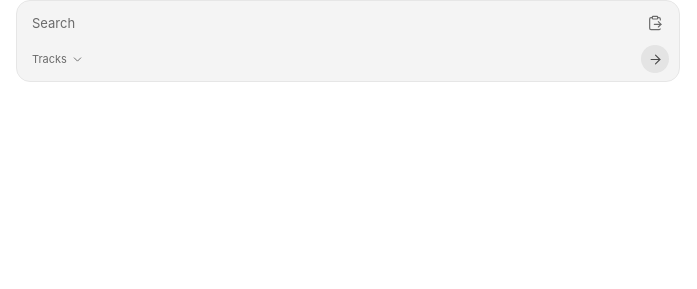
Test case: DeezerPage searching › drops responses from superseded searches
In the field named "Search query": coordinates (332, 23) [32,9,633,37], type "first"
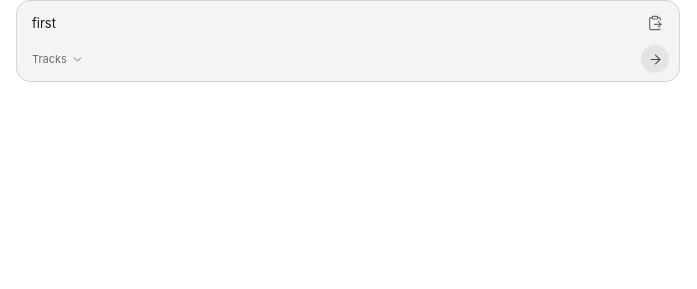
Click the button named "Search": coordinates (655, 59) [641,45,669,73]
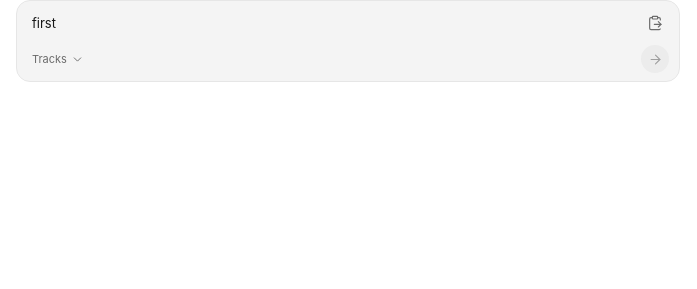
Replace the text in the field named "Search query" with "second": coordinates (332, 23) [32,9,633,37]
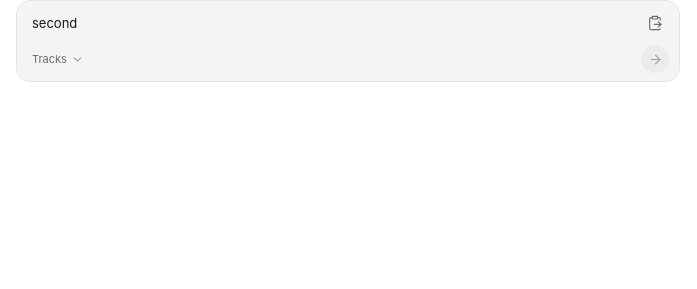
Submit the form, box [16,0,680,82]
Replace the text in the field named "Search query" with "third": coordinates (332, 23) [32,9,633,37]
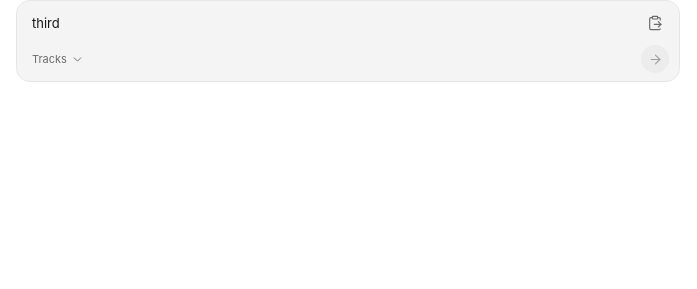
Submit the form, box [16,0,680,82]
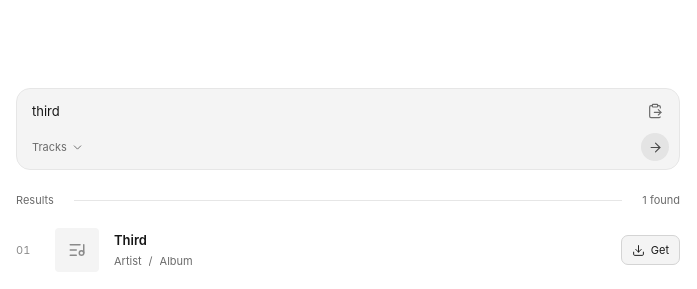
Check: the text "First" is not shown
Check: the text "Third" is shown, box [114,232,147,248]
